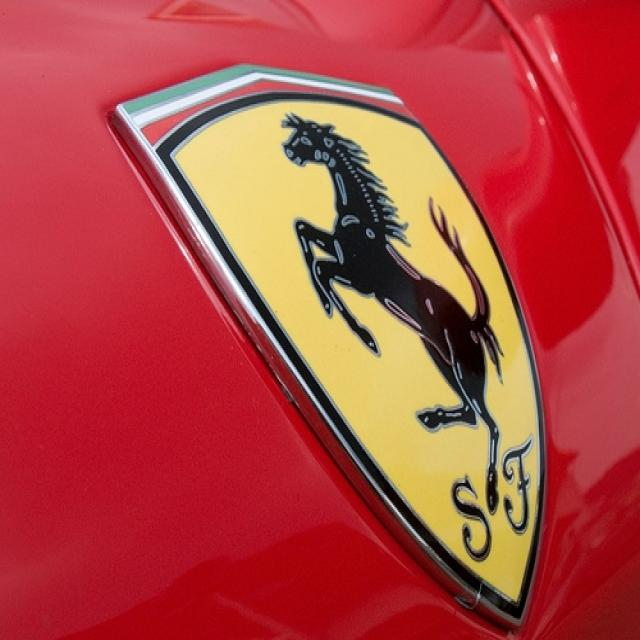ferrari: (121, 64, 549, 610)
